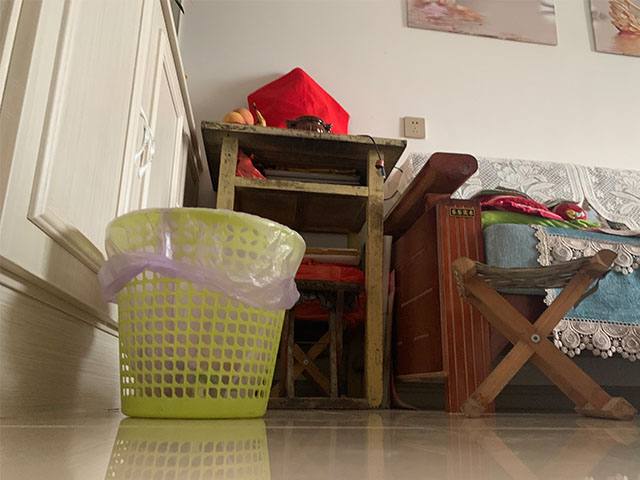cabinet: (1, 1, 205, 423)
sofa: (382, 150, 640, 416)
stool: (449, 247, 640, 420), (268, 279, 369, 410)
table: (198, 119, 409, 410)
trashcan: (103, 206, 307, 419)
